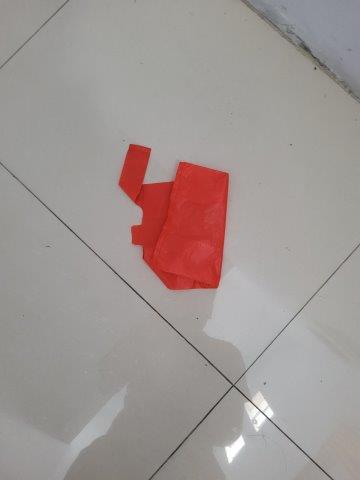plastik: (117, 144, 230, 289)
